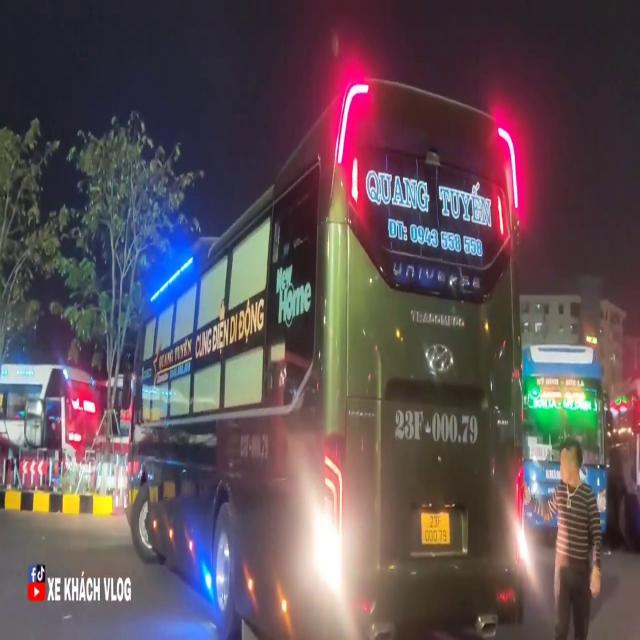bien_vang: (420, 514, 452, 548)
